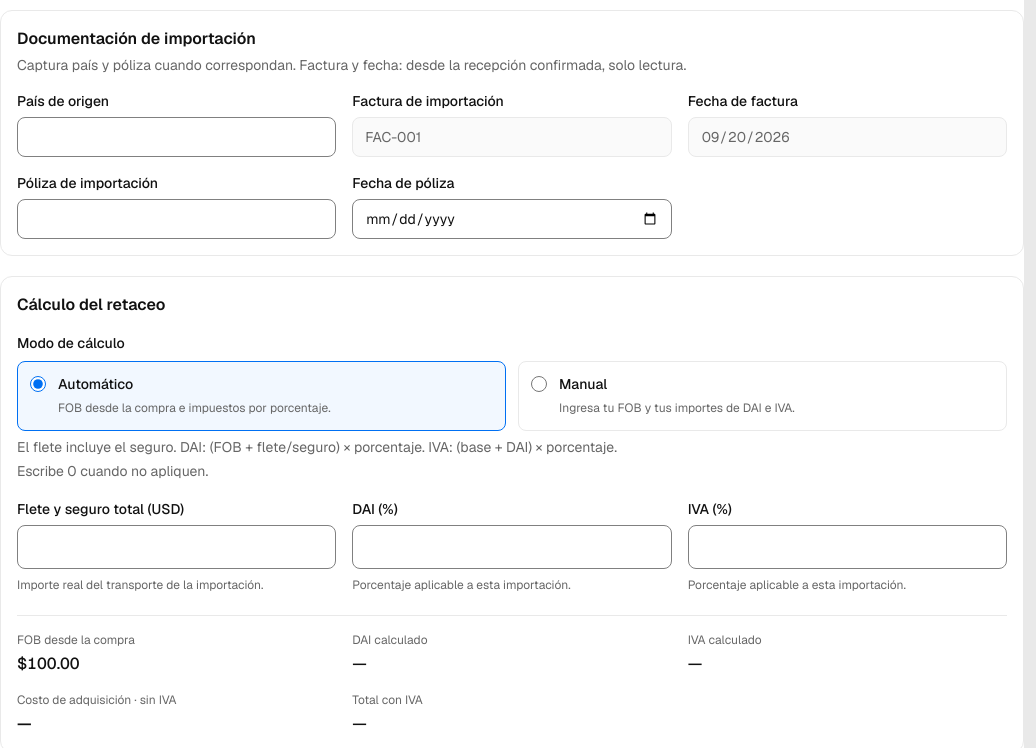
Test: RetaceoCreateEditor › keeps manually entered values when switching to automatic and back
(page scrolled)
Click the radio button labelled "Manual Ingresa tu FOB y tus importes de DAI e IVA.": (539, 384) [531, 376, 547, 392]
(page scrolled)
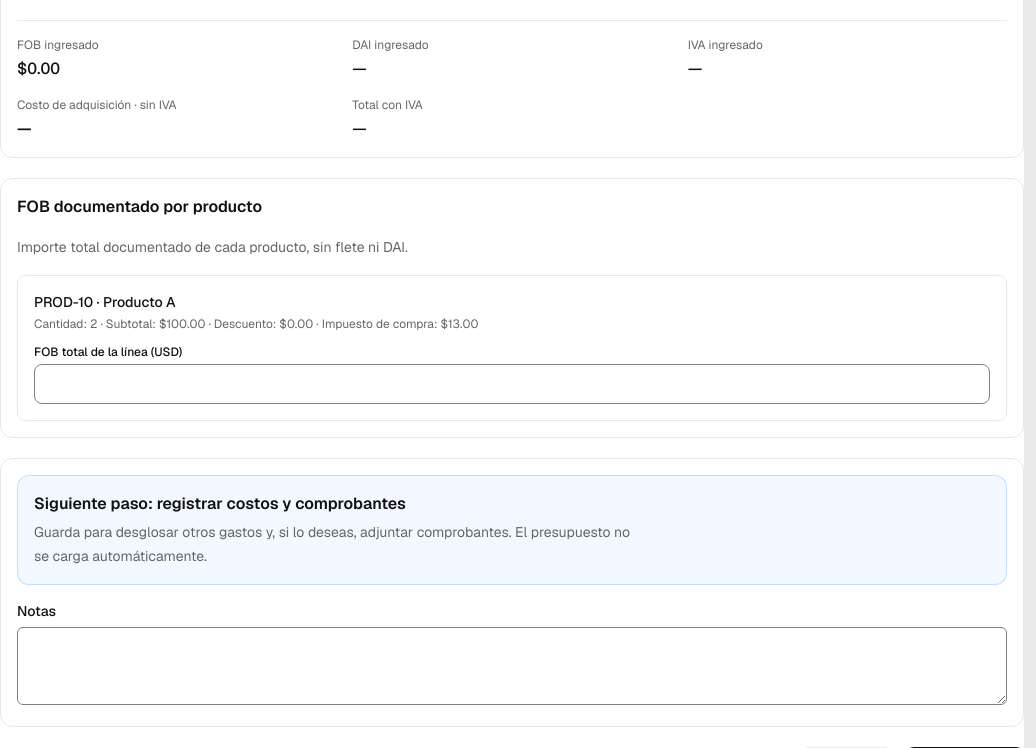
In the number field named "FOB total de la línea": (512, 384) [34, 364, 990, 404], type "80"
(page scrolled)
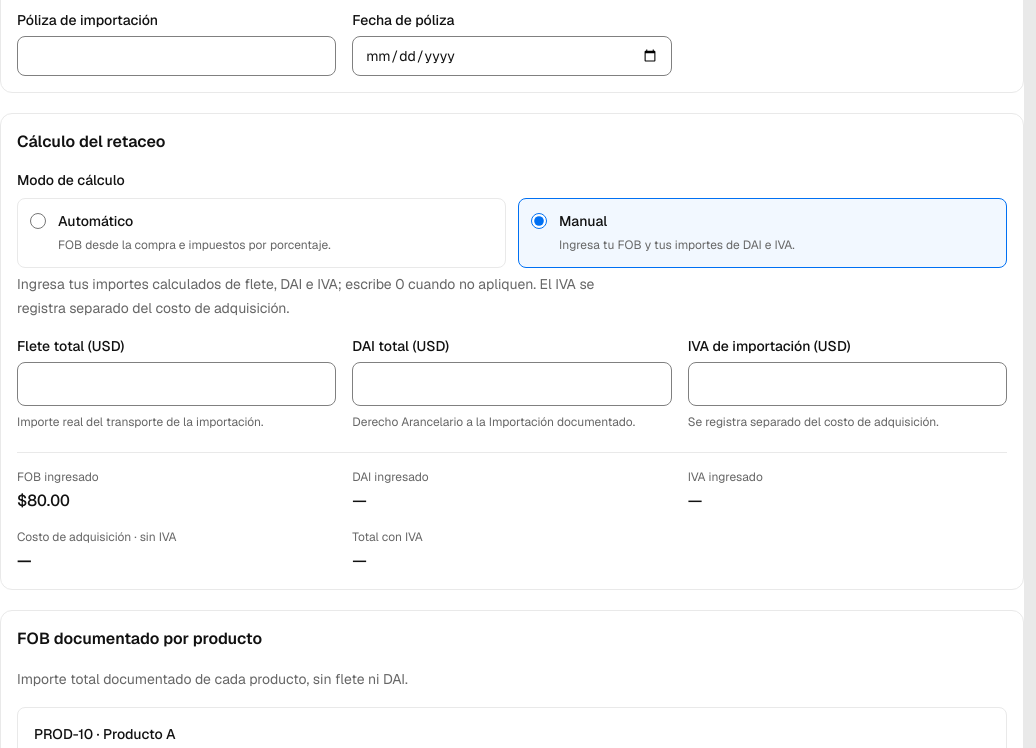
In the number field labelled "Flete total": (177, 384) [17, 362, 336, 406], type "7"
In the number field labelled "DAI total": (512, 384) [352, 362, 672, 406], type "4"
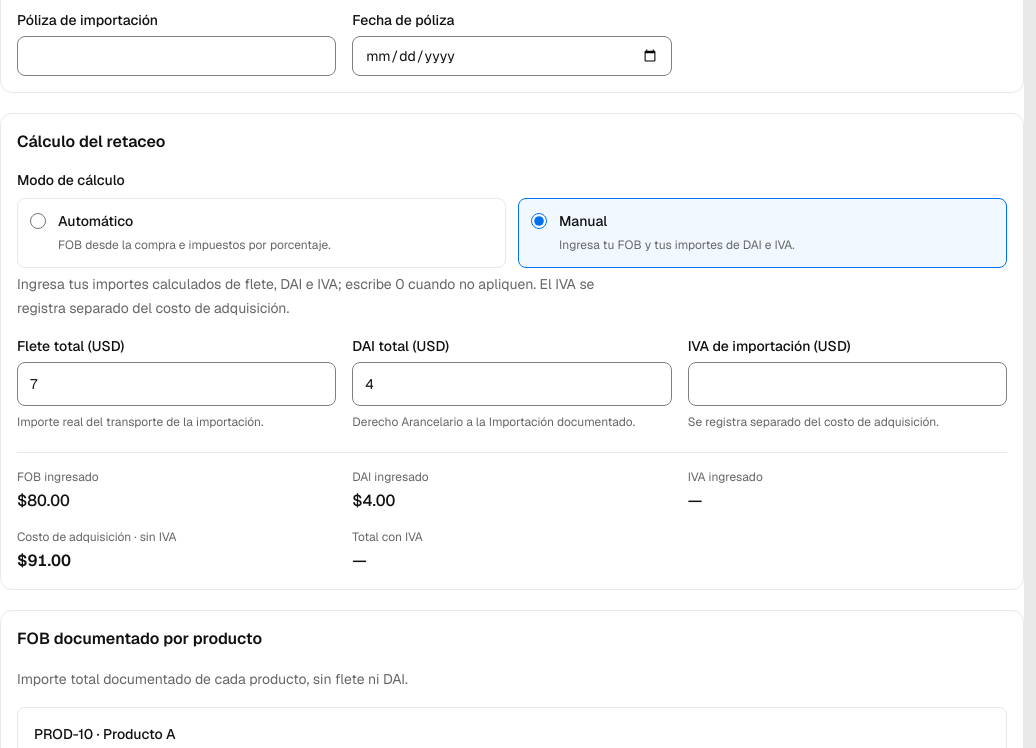
In the number field labelled "IVA de importación": (847, 384) [688, 362, 1007, 406], type "3"
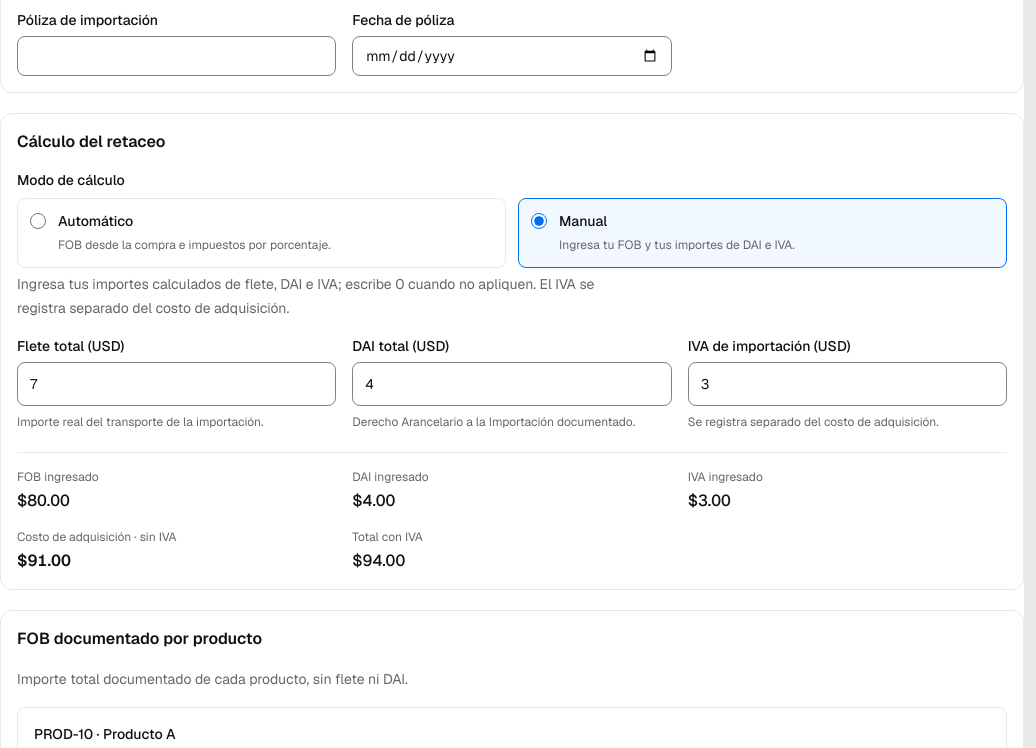
Click the radio button labelled "Automático FOB desde la compra e impuestos por porcentaje.": (38, 221) [30, 213, 46, 229]
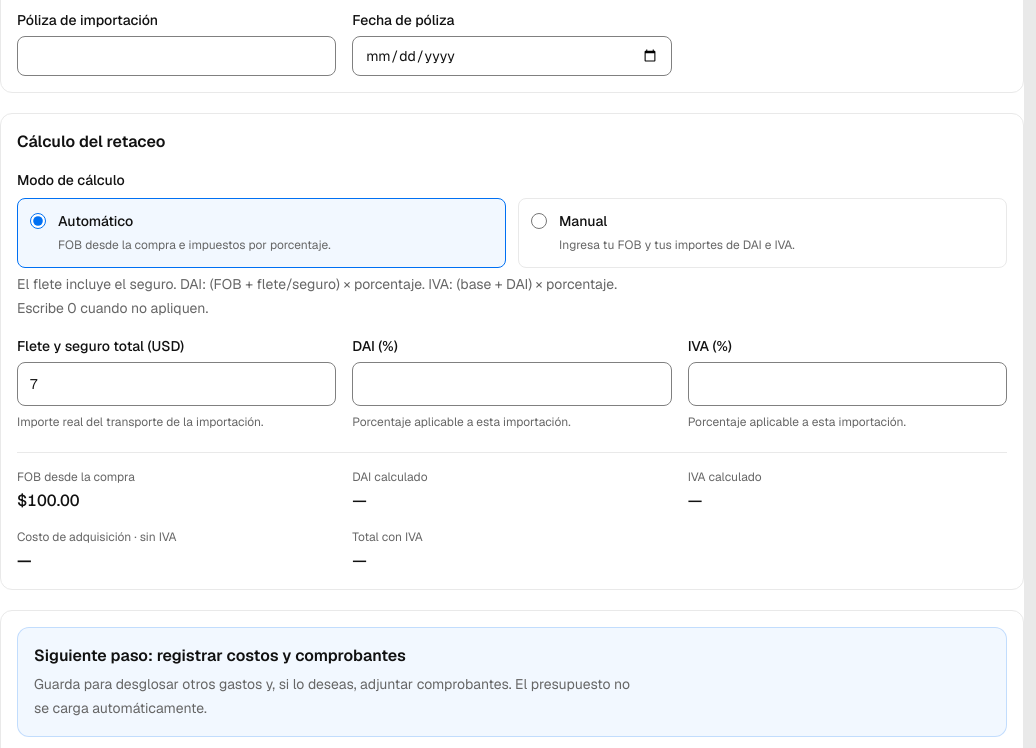
Click the radio button labelled "Manual Ingresa tu FOB y tus importes de DAI e IVA.": (539, 221) [531, 213, 547, 229]
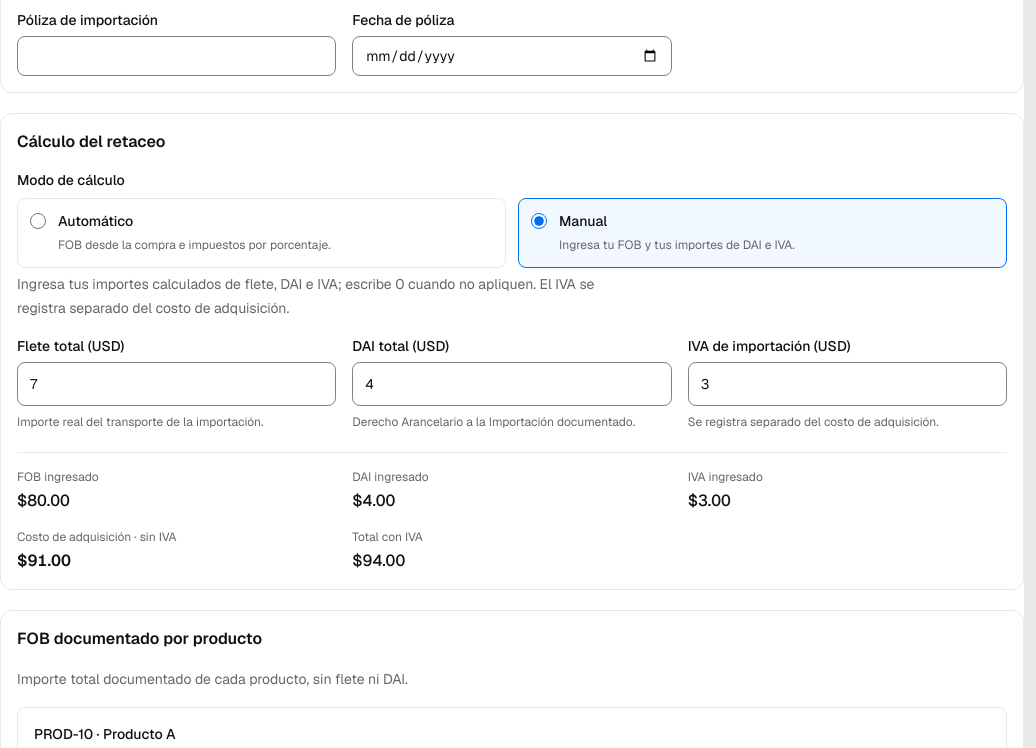
Result: the number field labelled "DAI total" holds "4" at [352, 362, 672, 406]
Result: the number field labelled "IVA de importación" holds "3" at [688, 362, 1007, 406]
